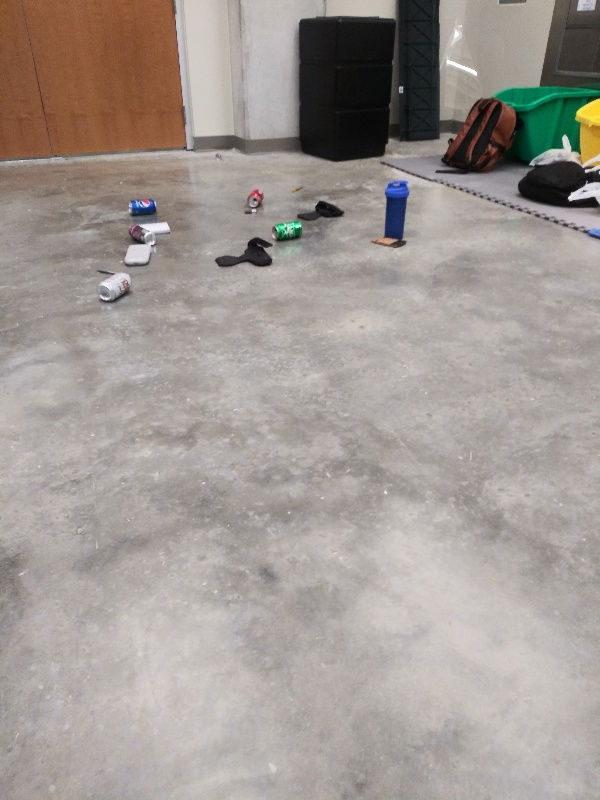can: (92, 269, 134, 303), (269, 220, 306, 244), (128, 220, 162, 244), (124, 196, 156, 216), (243, 187, 267, 210)
